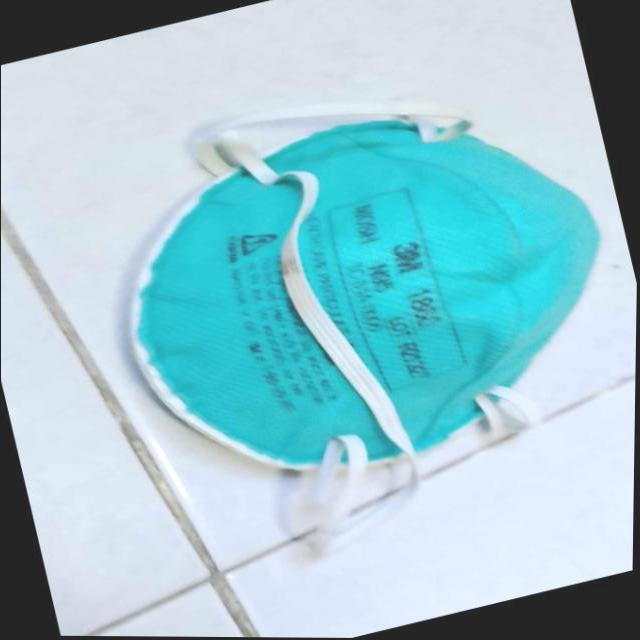General: (3, 1, 636, 636)
Infectious: (129, 115, 602, 473)
Sharps: (290, 371, 635, 561)
